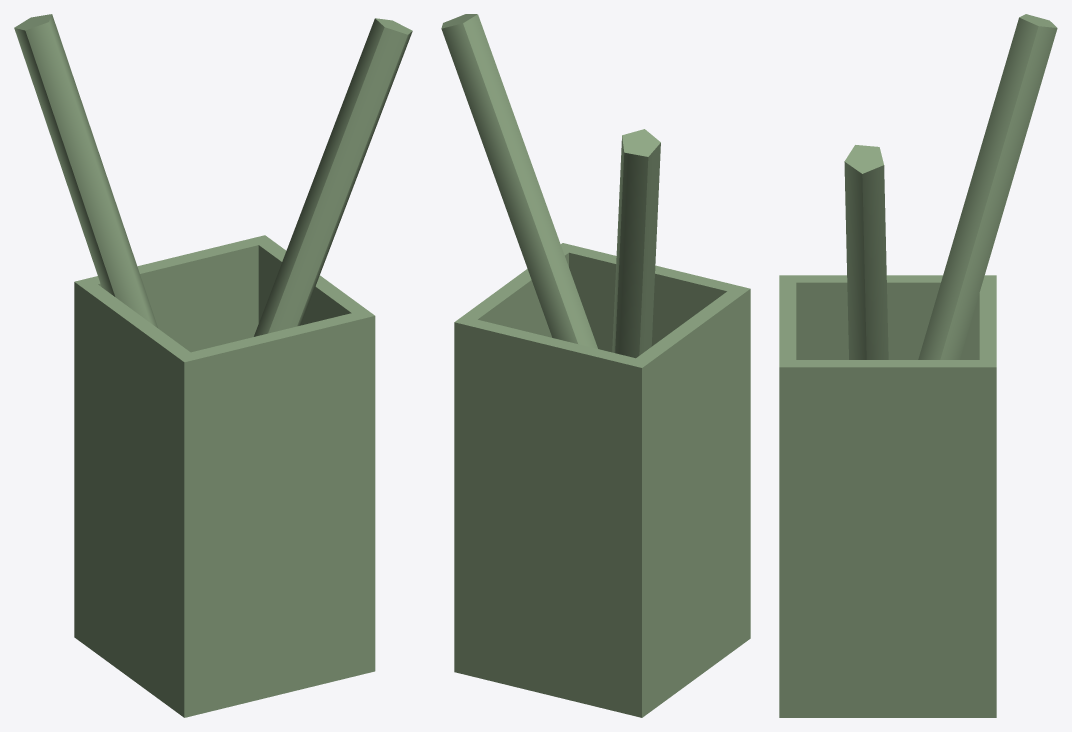
Rendered from Pencil_Case.fbx.
3 renders of one model, left to right at view 1: azimuth 30°, elevation 25°; view 2: azimuth 150°, elevation 25°; view 3: azimuth 270°, elevation 25°, orthographic.
Visible parts, largest first — view 1: Pencil_Case; view 2: Pencil_Case; view 3: Pencil_Case.
Boxes of the visible parts, x1,y1,x2,y2 form: Pencil_Case: (14,14,412,717); Pencil_Case: (441,14,750,717); Pencil_Case: (779,14,1057,717).
Bounding box in the file's own units: 13.57 × 25.99 × 10.89.
